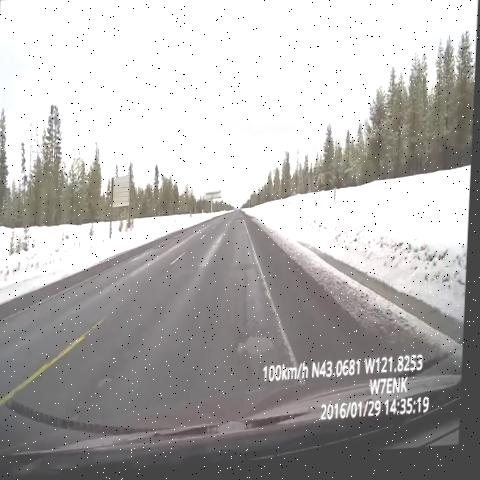pothole: (229, 336, 285, 365), (94, 365, 125, 397), (235, 217, 251, 232)
